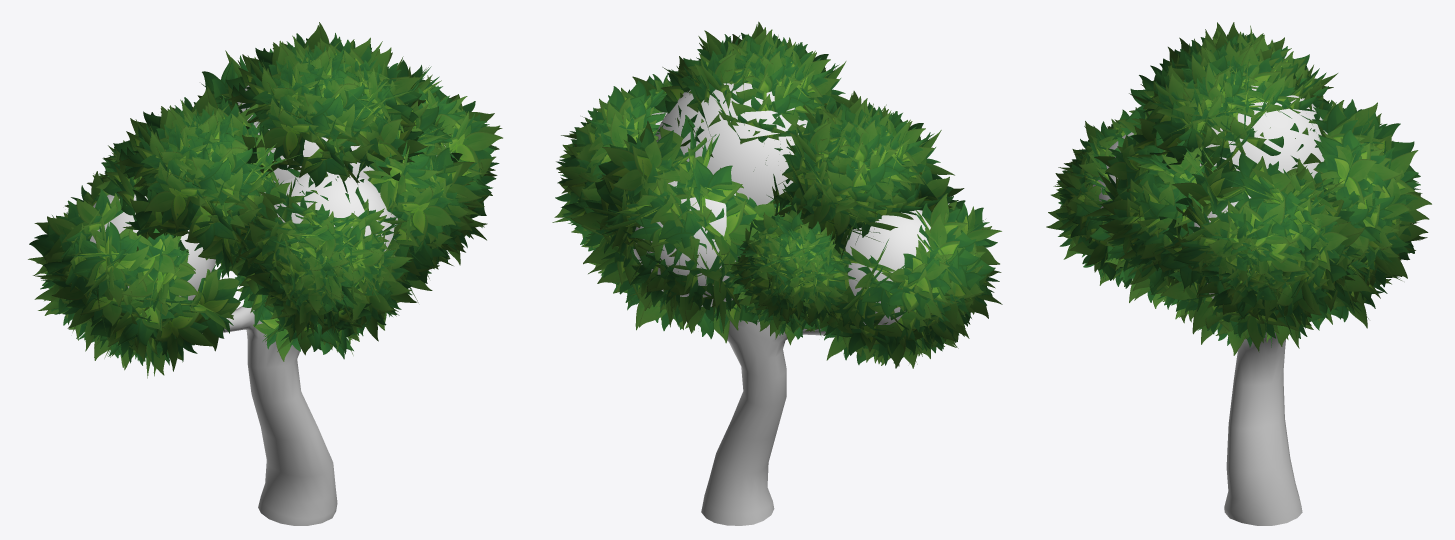
The model's file is TreeModel 1.fbx.
3 views of the same model, side by side, from view 1: azimuth 30°, elevation 25°; view 2: azimuth 150°, elevation 25°; view 3: azimuth 270°, elevation 25° (orthographic). The views are drawn at different scales.
Visible parts, largest first — view 1: Bush, TreeSculptLow, Sphere; view 2: Bush, Sphere, TreeSculptLow; view 3: Bush, TreeSculptLow, Sphere.
Part boxes in pixels (x1,y1,x2,y2): Bush: (28, 22, 502, 378); TreeSculptLow: (223, 192, 337, 525); Sphere: (90, 85, 451, 300); Bush: (552, 21, 1002, 368); Sphere: (633, 83, 930, 324); TreeSculptLow: (701, 319, 825, 525); Bush: (1046, 22, 1431, 355); TreeSculptLow: (1224, 332, 1302, 525); Sphere: (1092, 85, 1327, 298).
Size of the model in its own units: 5.33 by 5.39 by 4.16.
